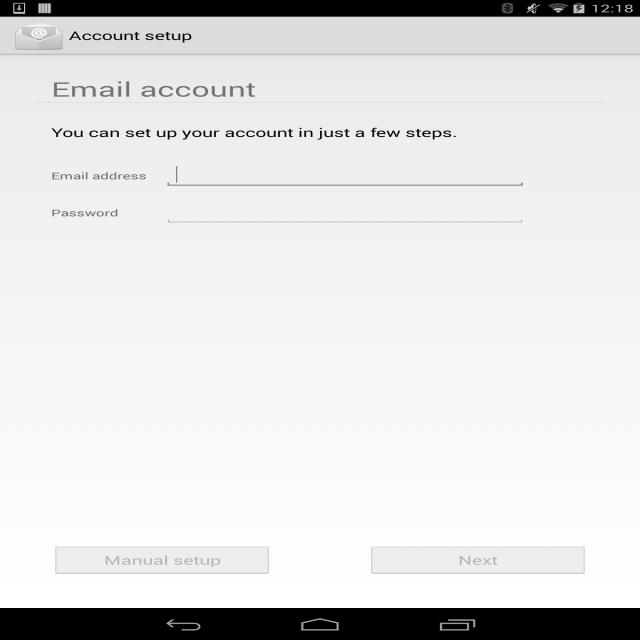Button: (51, 544, 273, 576), (367, 544, 589, 576)
EditText: (164, 162, 526, 188), (164, 199, 526, 225)
ImageView: (14, 19, 64, 52)
TextView: (51, 124, 538, 140), (51, 76, 256, 102), (69, 27, 192, 43), (51, 169, 147, 182), (51, 206, 147, 219)
